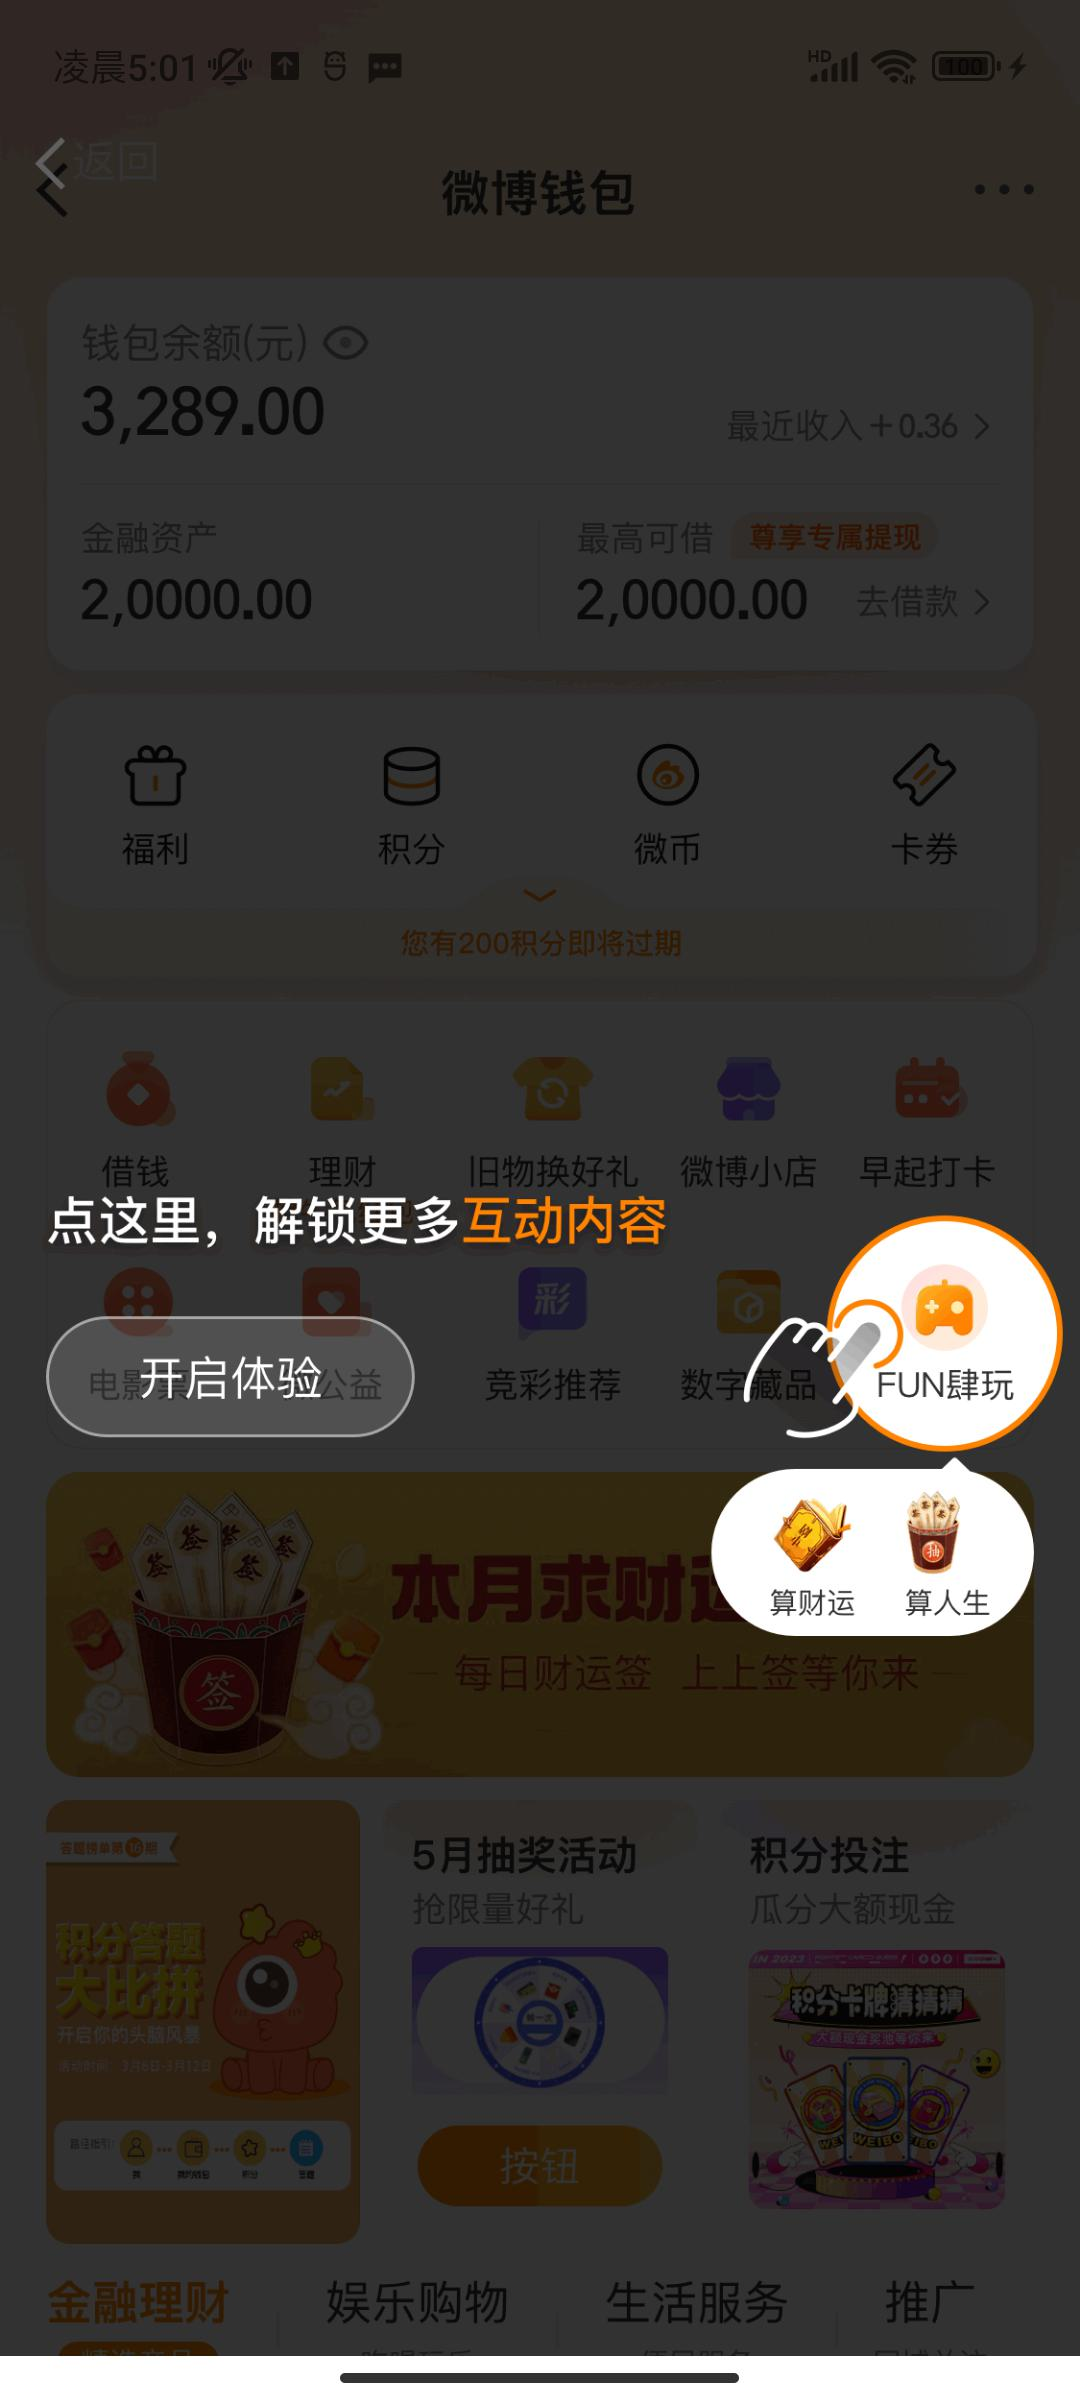ui_group: (26, 1176, 1068, 1645)
